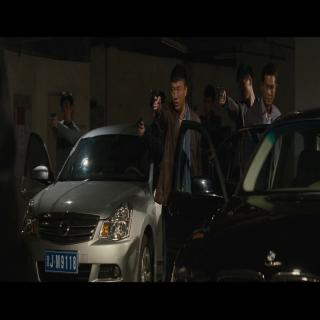gun: (149, 86, 161, 112), (216, 84, 227, 106), (134, 116, 145, 134), (48, 110, 58, 129)
